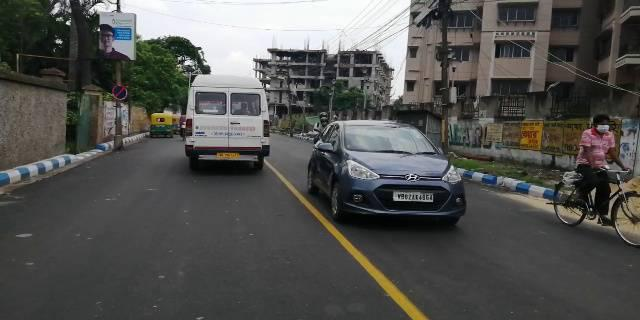Autorickshaw: (144, 108, 175, 137)
Car: (304, 114, 471, 236)
Cycle: (548, 113, 640, 248)
Van: (181, 69, 271, 174)
